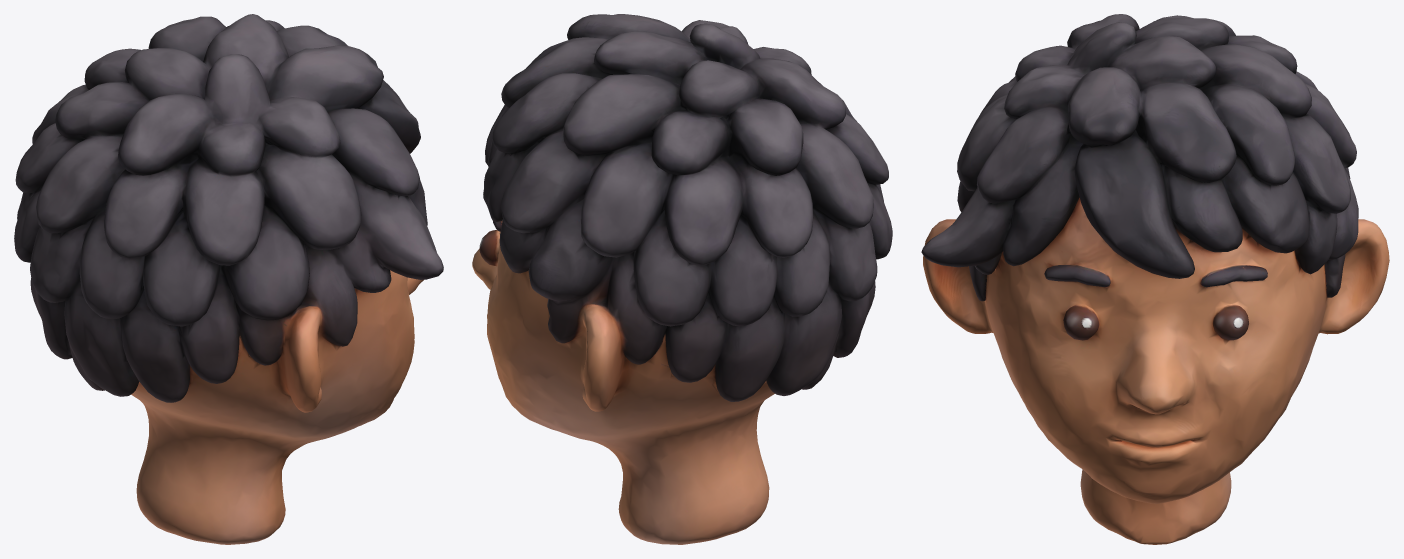
The model's file is hair_jun.glb.
3 renders of one model, left to right at view 1: azimuth 30°, elevation 25°; view 2: azimuth 150°, elevation 25°; view 3: azimuth 270°, elevation 25°, orthographic.
Visible parts, largest first — view 1: tripo_node_b99d0b9c-d26e-4ecf-9a28-5ffc3386d0fc; view 2: tripo_node_b99d0b9c-d26e-4ecf-9a28-5ffc3386d0fc; view 3: tripo_node_b99d0b9c-d26e-4ecf-9a28-5ffc3386d0fc.
Boxes of the visible parts, x1=… form: tripo_node_b99d0b9c-d26e-4ecf-9a28-5ffc3386d0fc: x1=14, y1=14, x2=443, y2=544; tripo_node_b99d0b9c-d26e-4ecf-9a28-5ffc3386d0fc: x1=472, y1=14, x2=892, y2=544; tripo_node_b99d0b9c-d26e-4ecf-9a28-5ffc3386d0fc: x1=921, y1=14, x2=1389, y2=544.
Size of the model in its own units: 0.837 by 1 by 0.8598.
1 material, 1 textured.
